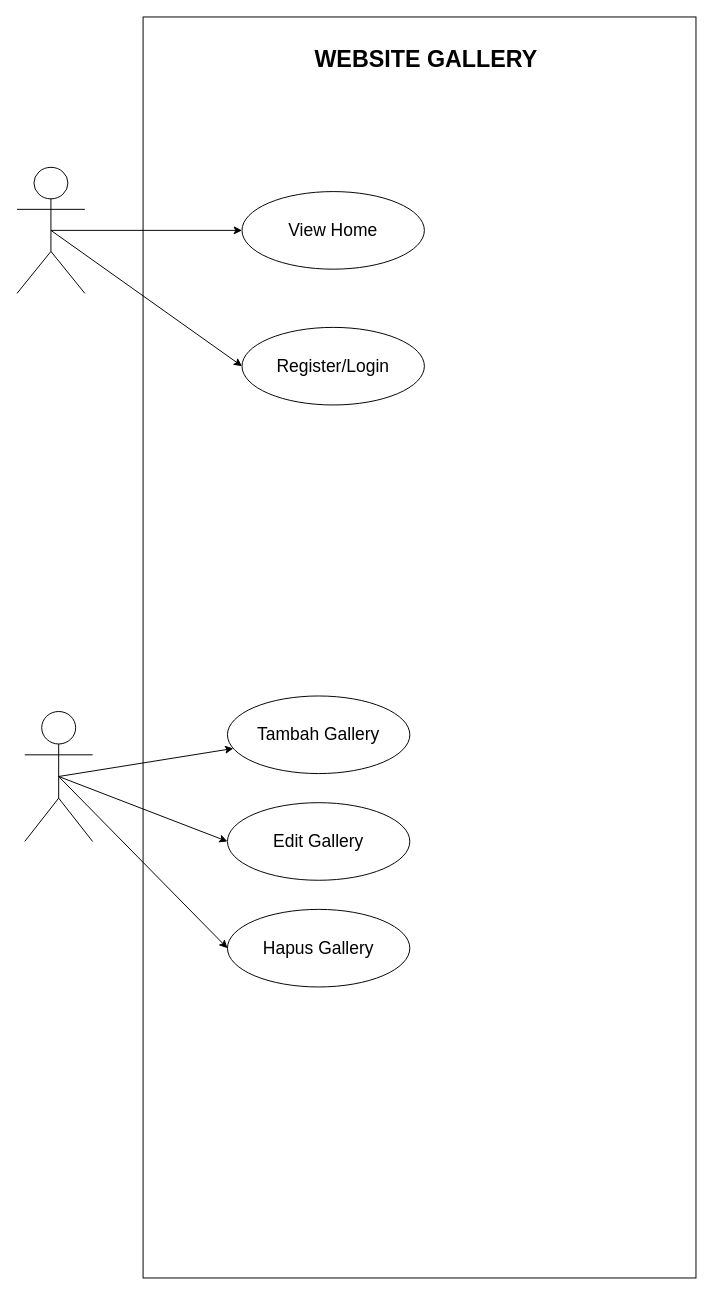
This 713x1295 diagram has some shape labels left out. Each missing label, with the box of its shape:
ADMIN: (24, 711, 93, 841)
USER: (16, 166, 85, 293)
